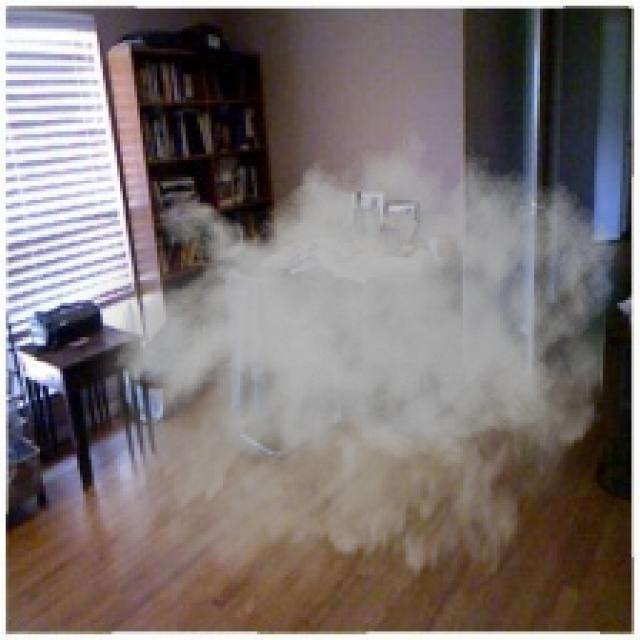Smoke: (62, 114, 618, 637)
